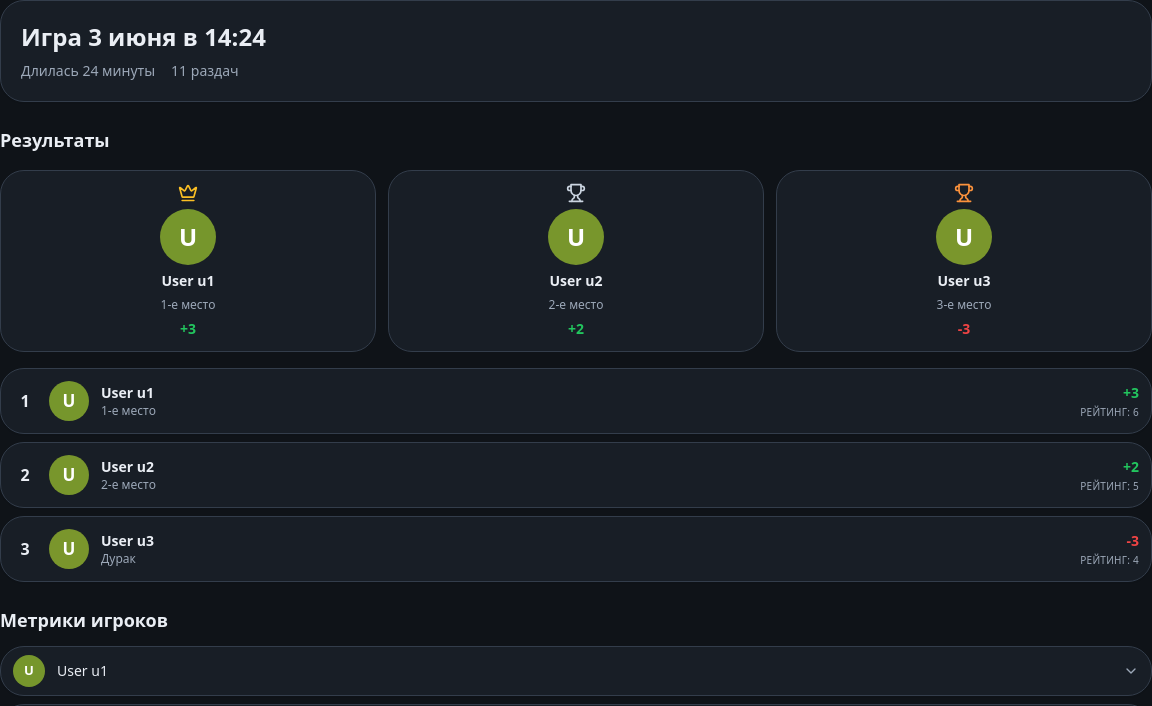
GameDetailView smoke › renders header, podium, standings and the metrics list
Expected: the heading with test id "game-detail-title" is shown, [21,20,266,53]
Expected: the list item with test id "podium-1" is shown, [0,170,376,352]
Click the button with test id "metrics-toggle-u1".
click(29, 671)  # box [1,647,1151,695]
(page scrolled)
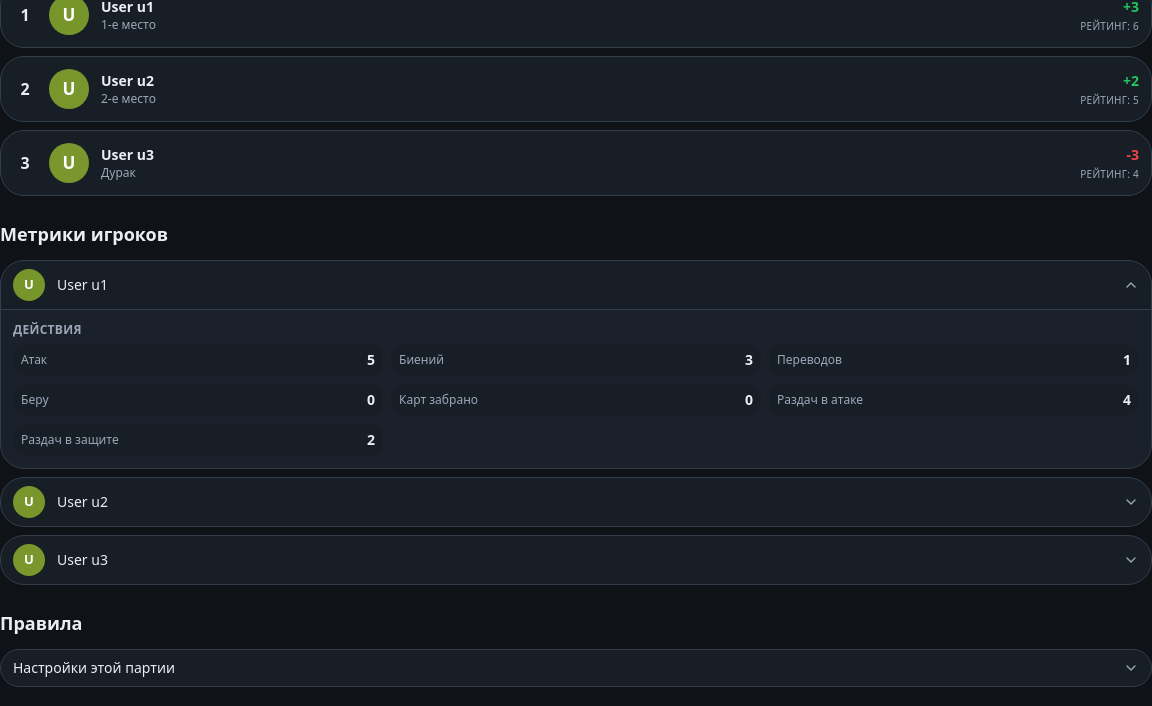
Expected: the text with test id "metric-attacksMade" reads "5", [367,350,375,369]
